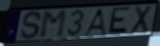3: (65, 9, 87, 37)
A: (82, 8, 107, 37)
E: (106, 6, 132, 35)
M: (39, 9, 69, 39)
S: (19, 10, 44, 41)
X: (128, 4, 154, 35)
